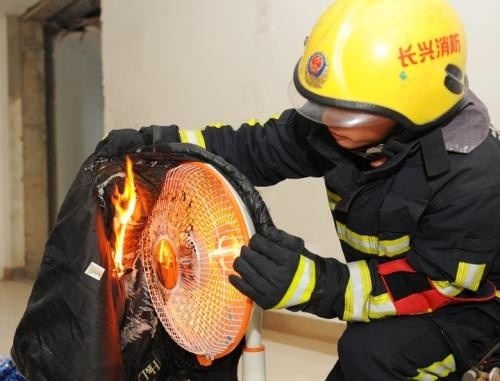fire: (110, 152, 140, 273), (156, 237, 175, 268)
